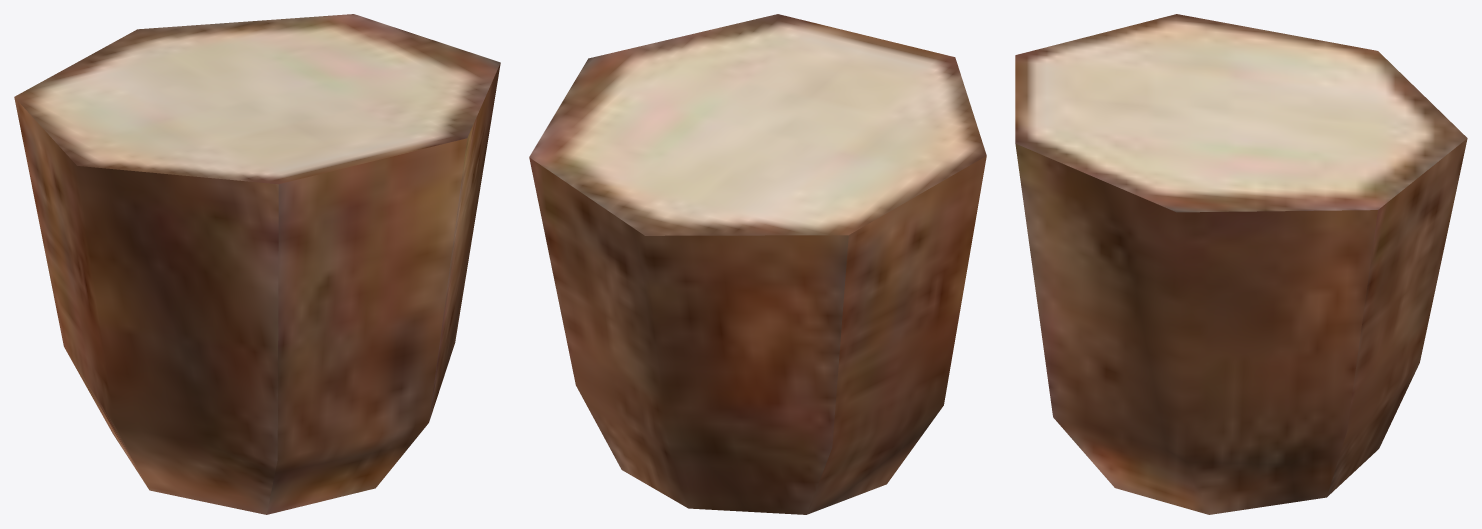
Rendered from Yam_003.glb.
3 renders of one model, left to right at view 1: azimuth 30°, elevation 25°; view 2: azimuth 150°, elevation 25°; view 3: azimuth 270°, elevation 25°, orthographic. The views are drawn at different scales.
Visible parts, largest first — view 1: Yam.003; view 2: Yam.003; view 3: Yam.003.
Boxes of the visible parts, bbox=[...] form: Yam.003: bbox=[14, 14, 500, 514]; Yam.003: bbox=[529, 14, 986, 514]; Yam.003: bbox=[1015, 14, 1467, 514].
Size of the model in its own units: 0.07 by 0.0597 by 0.0674.
1 material, 1 textured.
